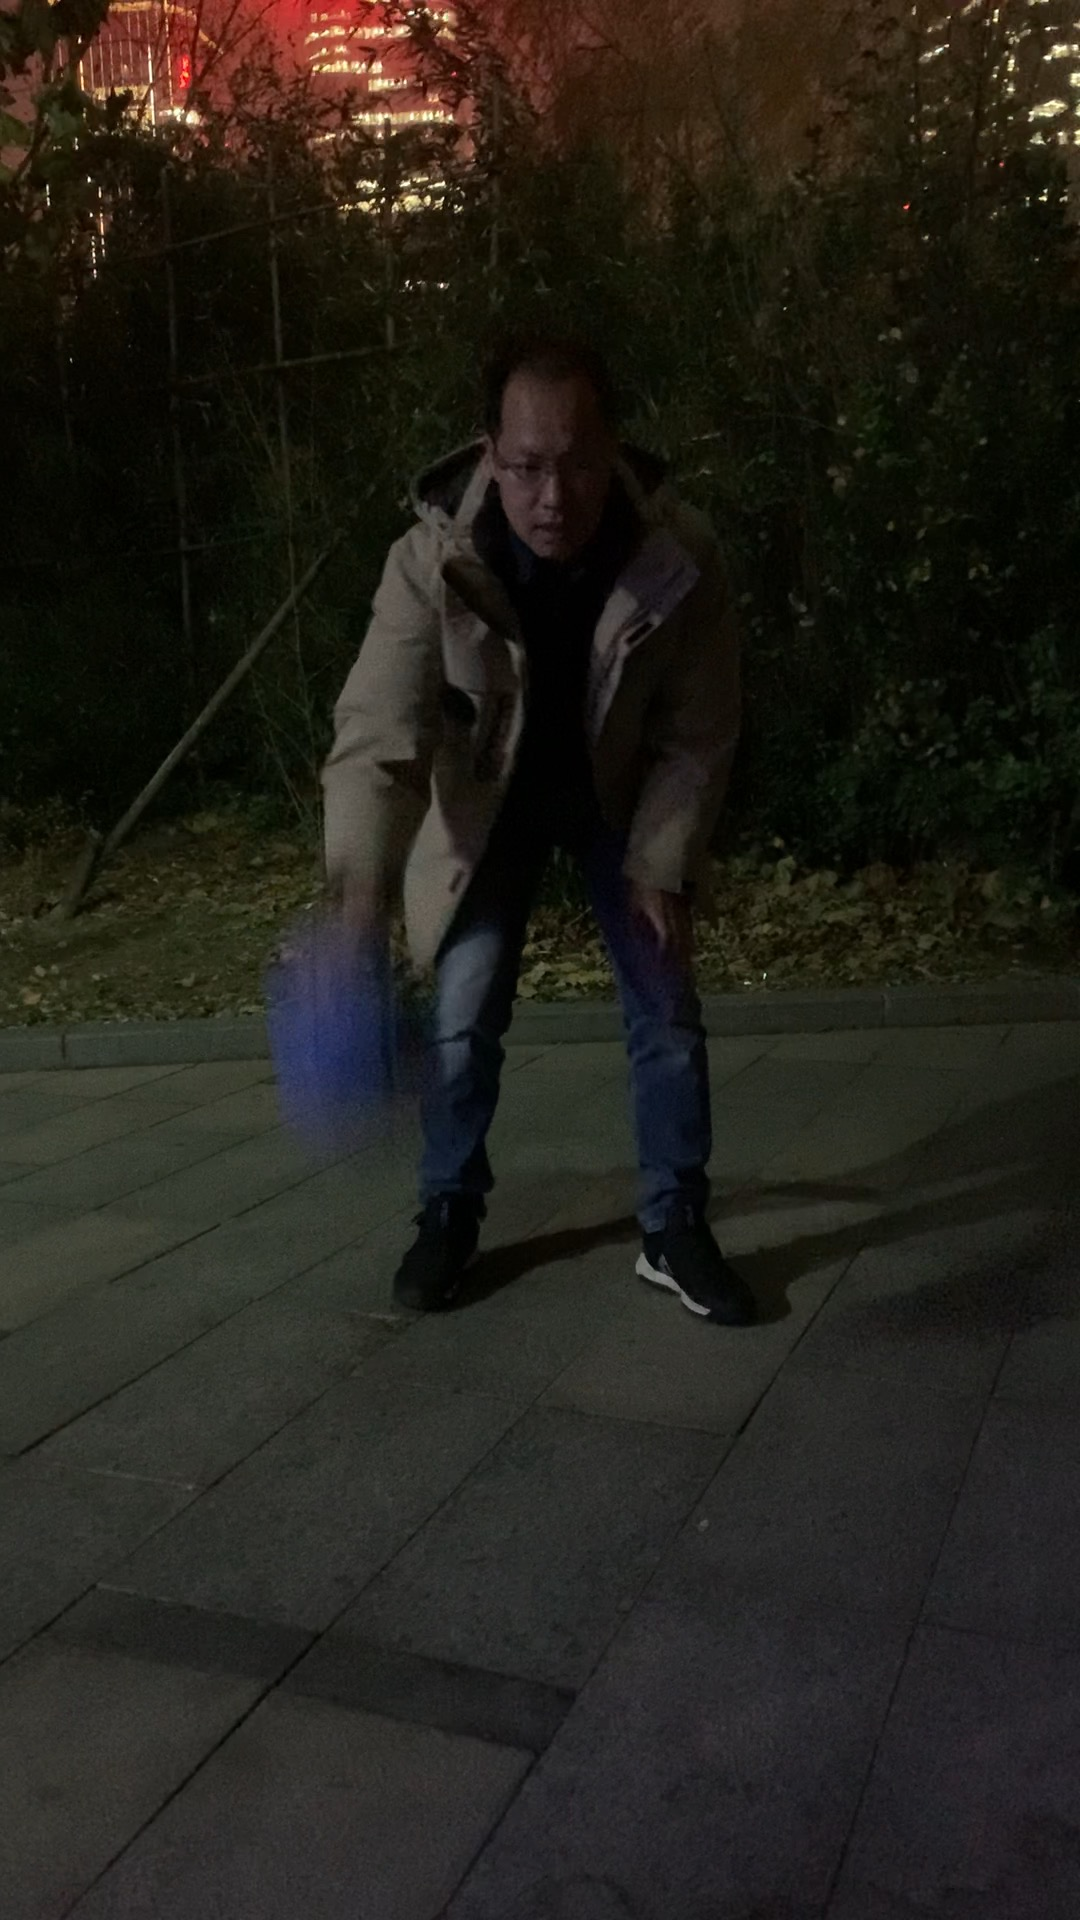ball: (285, 972, 438, 1133)
